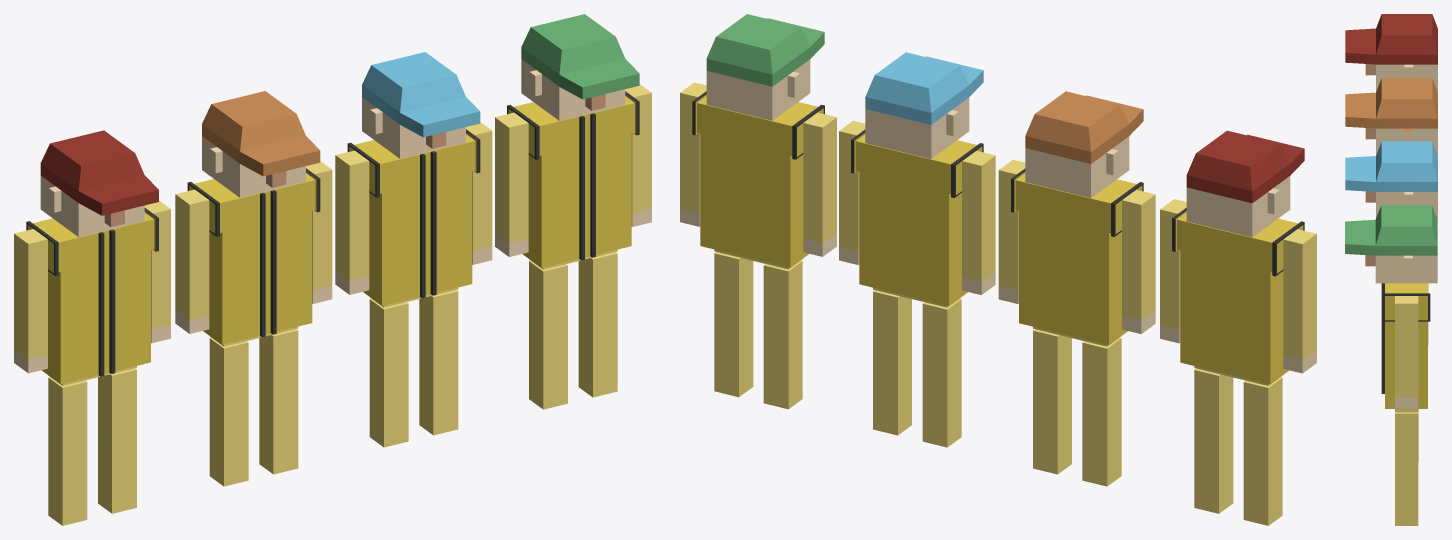
The model's file is player1-4.fbx.
The picture shows the model from 3 angles, left to right: view 1: azimuth 30°, elevation 25°; view 2: azimuth 150°, elevation 25°; view 3: azimuth 270°, elevation 25°; orthographic projection. The views are drawn at different scales.
Parts seen in each view (by area): view 1: masu_Player2, masu_Player3, polySurface11, masu_Player4; view 2: masu_Player4, masu_Player2, polySurface11, masu_Player3; view 3: masu_Player4, masu_Player3, polySurface11, masu_Player2.
Boxes of the visible parts, left/top/right/bottom form: masu_Player2: left=175, top=91, right=332, bottom=486; masu_Player3: left=335, top=52, right=492, bottom=447; polySurface11: left=14, top=130, right=170, bottom=525; masu_Player4: left=495, top=14, right=651, bottom=409; masu_Player4: left=680, top=14, right=836, bottom=409; masu_Player2: left=998, top=91, right=1155, bottom=486; polySurface11: left=1160, top=130, right=1316, bottom=525; masu_Player3: left=839, top=52, right=995, bottom=447; masu_Player4: left=1345, top=205, right=1437, bottom=525; masu_Player3: left=1345, top=141, right=1437, bottom=461; polySurface11: left=1345, top=14, right=1437, bottom=91; masu_Player2: left=1345, top=78, right=1437, bottom=155.
Size of the model in its own units: 25.16 by 14.04 by 3.99.
